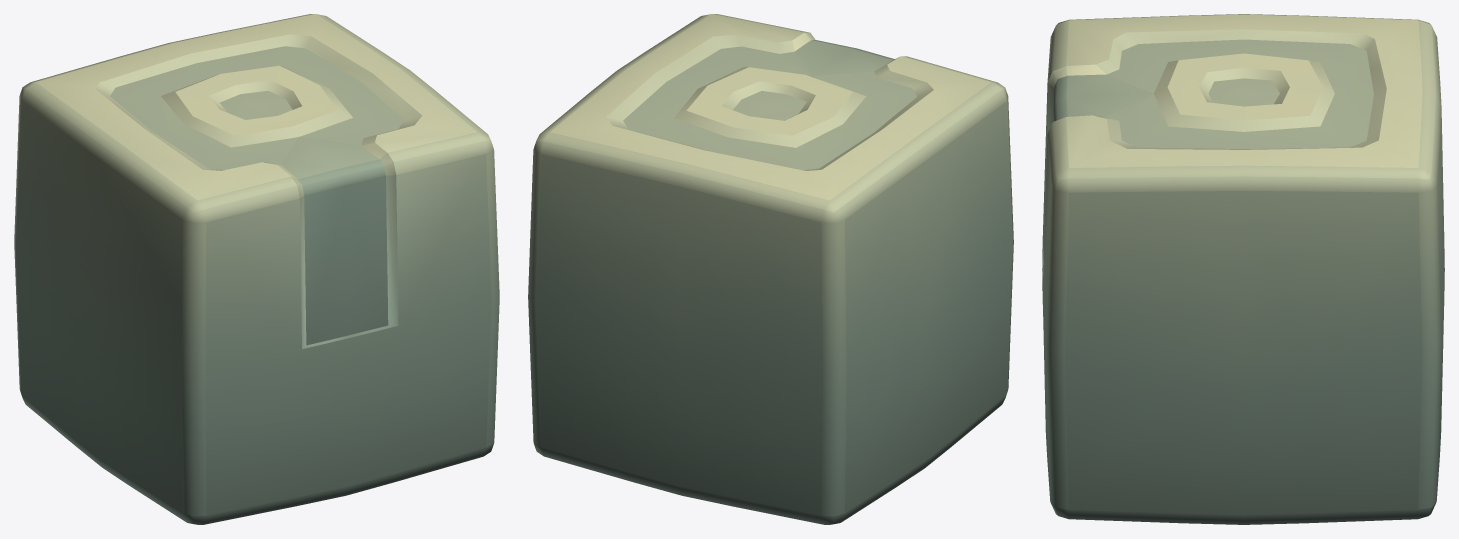
The model's file is Stone_Free1.fbx.
3 views of the same model, side by side, from view 1: azimuth 30°, elevation 25°; view 2: azimuth 150°, elevation 25°; view 3: azimuth 270°, elevation 25° (orthographic). The views are drawn at different scales.
Visible parts, largest first — view 1: Stone_Free1_LOD0; view 2: Stone_Free1_LOD0; view 3: Stone_Free1_LOD0.
Part boxes in pixels (bbox=[...]): Stone_Free1_LOD0: bbox=[14, 14, 499, 524]; Stone_Free1_LOD0: bbox=[528, 14, 1013, 524]; Stone_Free1_LOD0: bbox=[1042, 14, 1444, 524].
Size of what is drawn, in the model's own units: 1.09 by 1.09 by 1.09.
